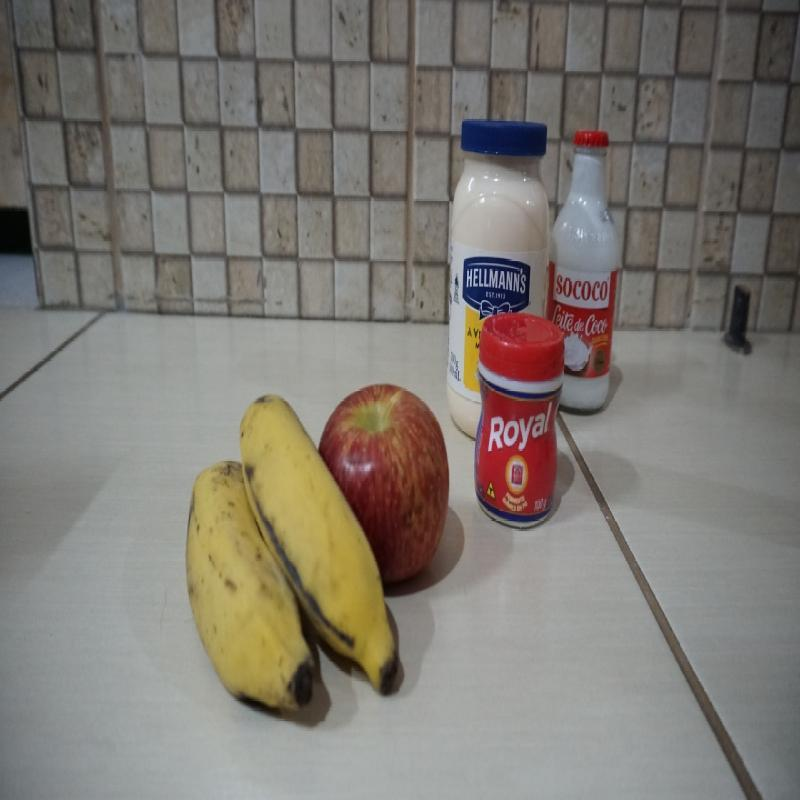Apple: (334, 366, 449, 585)
Banana: (182, 385, 326, 725)
Coconut Milk: (564, 117, 623, 416)
Mayonnaise: (450, 103, 548, 306)
Yeast: (478, 315, 564, 522)
